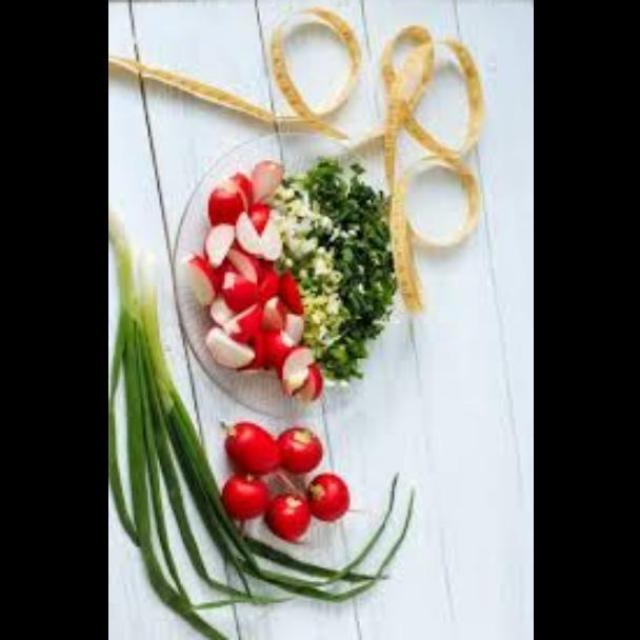rediska: (178, 150, 315, 402), (216, 422, 292, 479), (272, 424, 328, 479), (303, 464, 352, 524), (220, 471, 274, 524), (265, 492, 314, 544)
